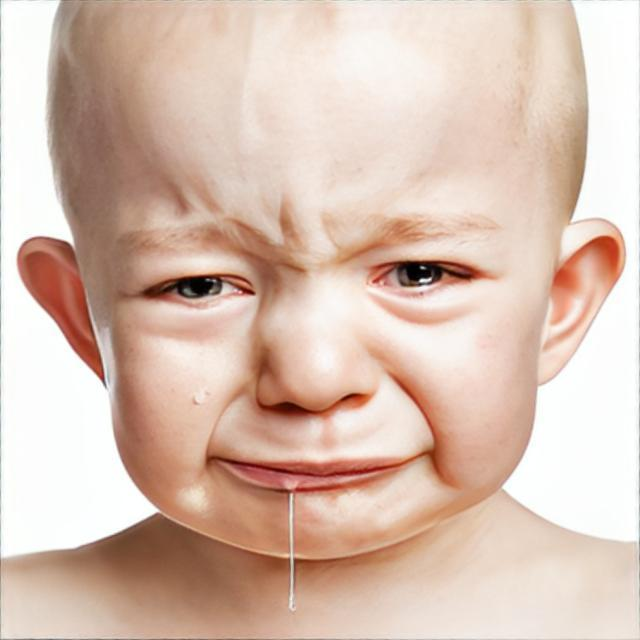sad: (73, 0, 554, 564)
